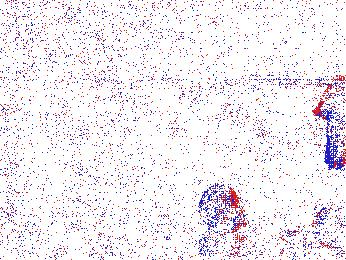flame jellyfish: (280, 204, 346, 248), (198, 183, 247, 233), (318, 82, 346, 168)
